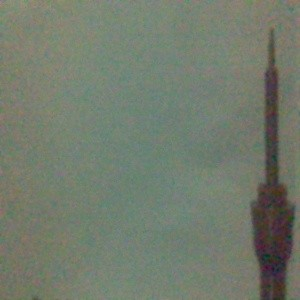solder: (249, 26, 297, 300)
